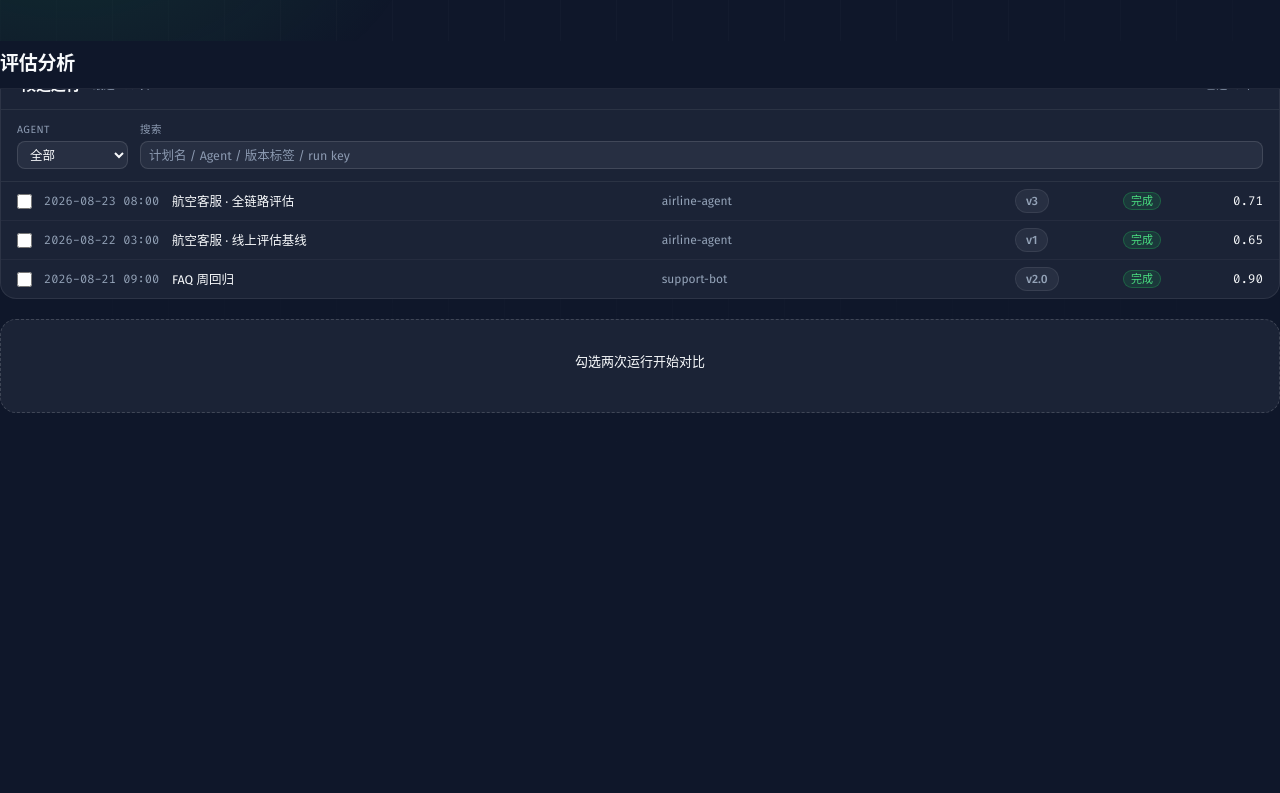
Test: 对比页：跨方案选两条 › 口径是表格：列头带 run 身份（#N · 时间），行里不再逐行重复侧别词；三区编号在场
The width and height of the screenshot is (1280, 793).
Expected: the list with test id "compare-list" is shown, [1,182,1279,298]
Click the list item "2026-08-22 03:00 航空客服 · 线上评估基线 airline-agent v1 完成 0.65" at (102, 240), box [1,220,1279,259]
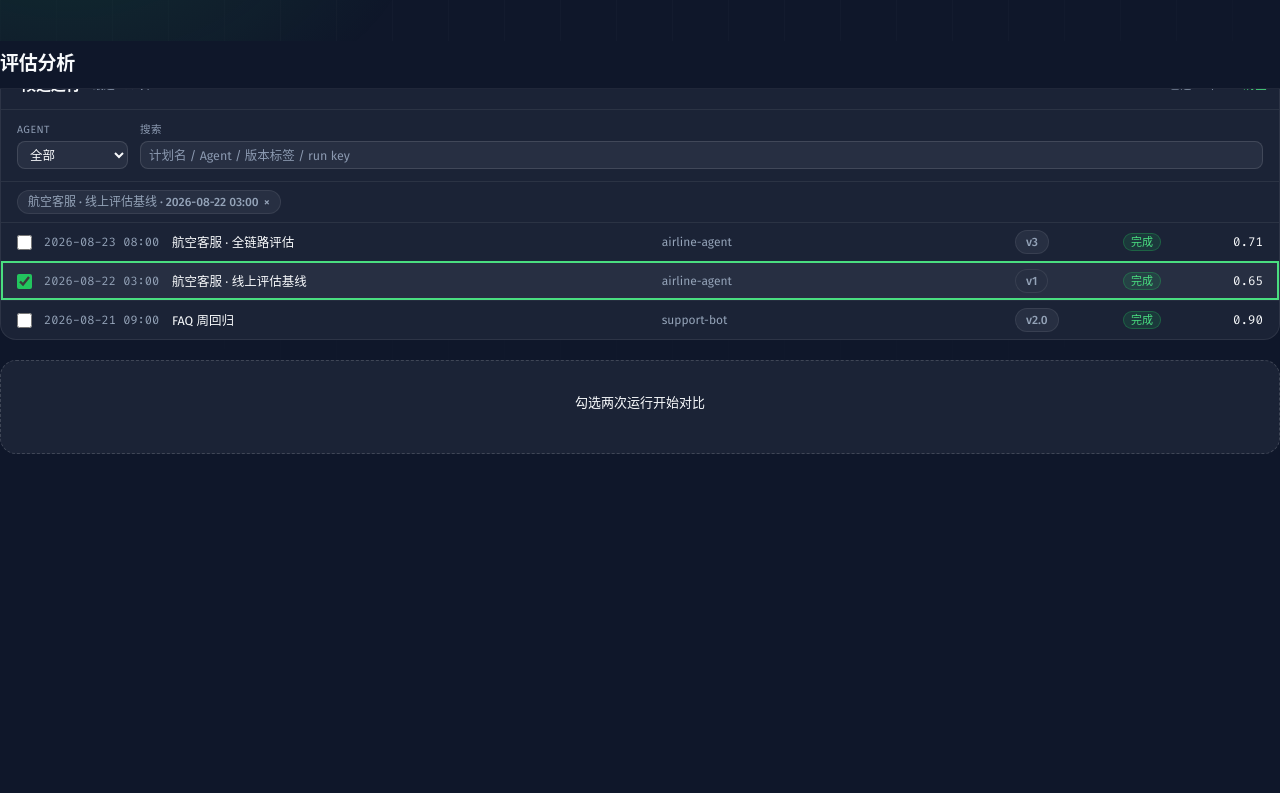
Click the list item "2026-08-23 08:00 航空客服 · 全链路评估 airline-agent v3 完成 0.71" at (102, 242), box [1,223,1279,261]
(page scrolled)
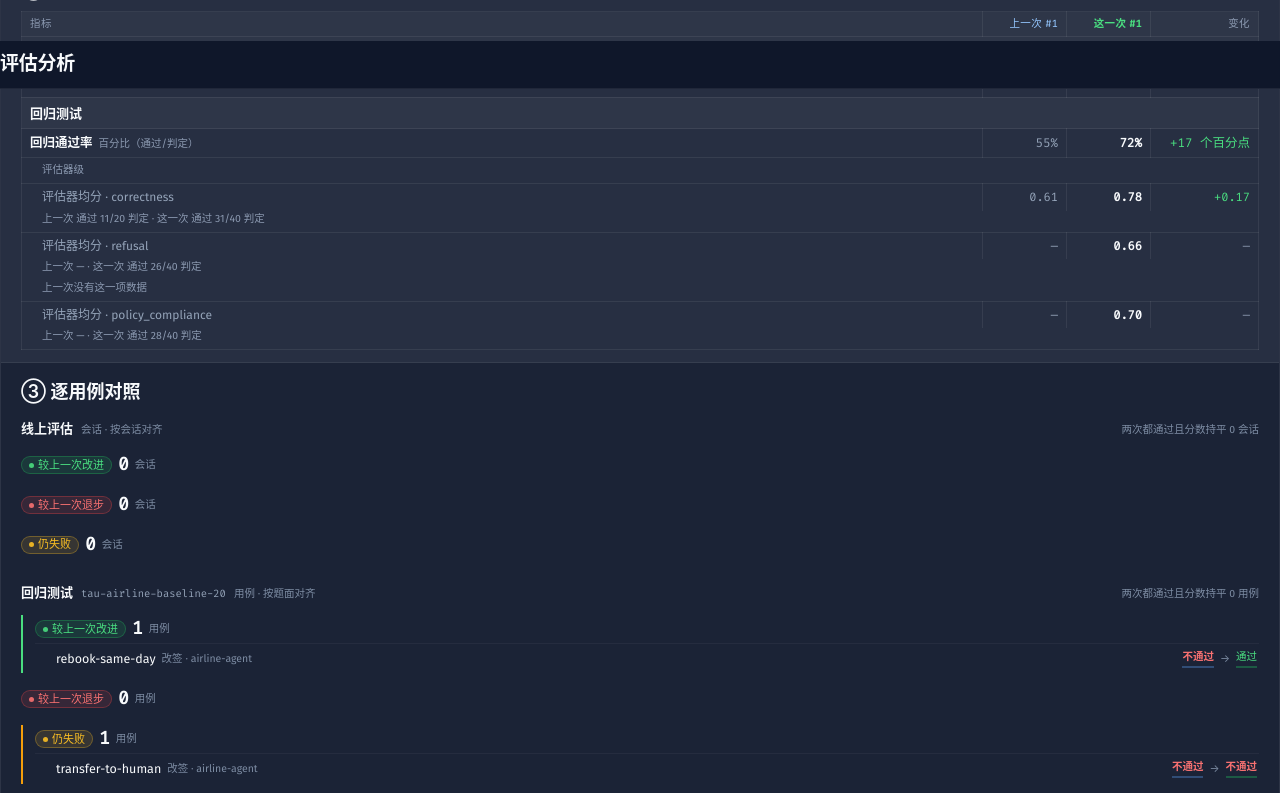
Expected: the element with test id "plan-compare-cal-dataset-a" does not show "上一次"
Expected: the column heading "上一次 #1" is shown, [982,12,1066,37]
Expected: the text with test id "plan-compare-body-cap" reads "③ 逐用例对照", [21,381,140,403]
